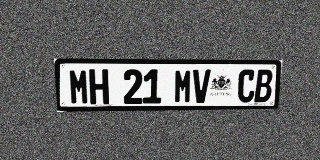1: (143, 69, 161, 104)
2: (123, 69, 142, 104)
B: (254, 69, 273, 102)
C: (237, 69, 256, 102)
H: (89, 69, 109, 104)
M: (68, 69, 89, 105), (174, 69, 192, 103)
V: (192, 69, 211, 103)
